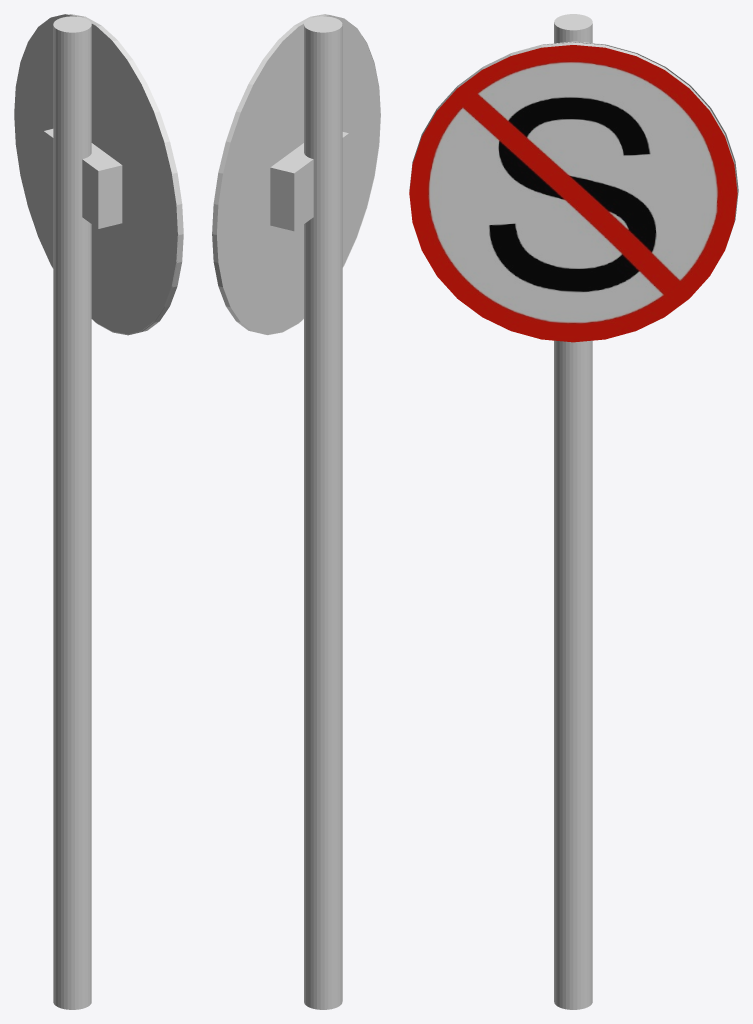
The model's file is Lar.Stop.fbx.
The picture shows the model from 3 angles, left to right: view 1: azimuth 30°, elevation 25°; view 2: azimuth 150°, elevation 25°; view 3: azimuth 270°, elevation 25°; orthographic projection.
Parts seen in each view (by area): view 1: Cylinder, Cylinder.001, Cube; view 2: Cylinder, Cylinder.001, Cube; view 3: Cylinder.001, Cylinder.
Boxes of the visible parts, left/top/right/bottom form: Cylinder: left=53, top=16, right=91, bottom=1009; Cylinder.001: left=14, top=14, right=183, bottom=335; Cube: left=43, top=129, right=122, bottom=228; Cylinder: left=304, top=16, right=342, bottom=1009; Cylinder.001: left=212, top=14, right=380, bottom=335; Cube: left=270, top=132, right=348, bottom=231; Cylinder.001: left=409, top=41, right=738, bottom=342; Cylinder: left=554, top=14, right=592, bottom=1009.
Bounding box in the file's own units: 35.85 × 727 × 222.
